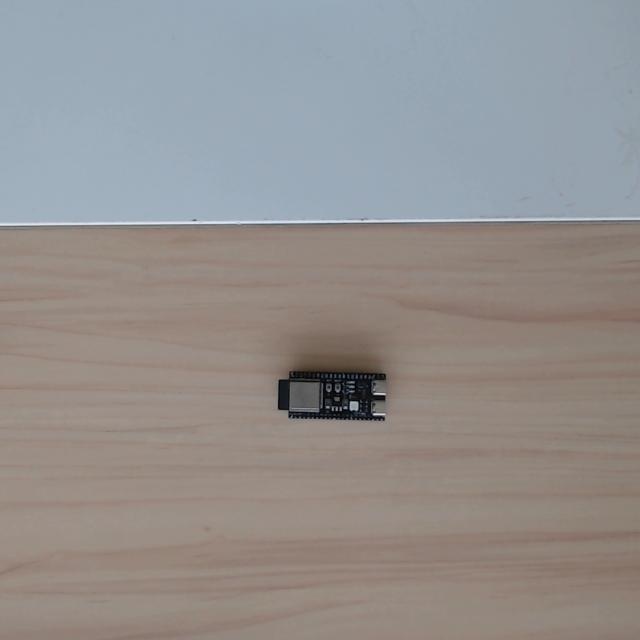ESP32S3-Devkit: (275, 369, 389, 424)
